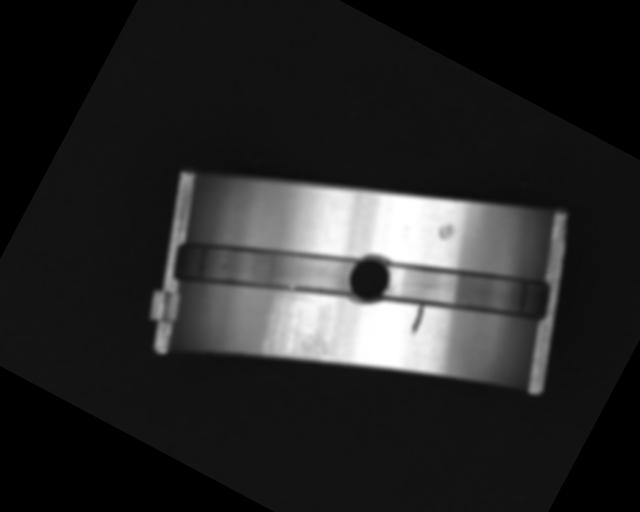bruise: (433, 219, 458, 245)
gap: (172, 188, 362, 348), (380, 217, 556, 360)
hole: (341, 250, 399, 308)
nick: (403, 301, 431, 339)
scratch: (249, 292, 342, 389)
